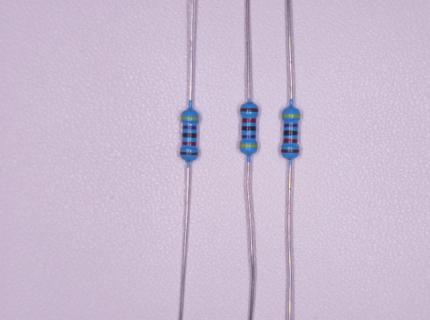Black band: (183, 133, 197, 138), (242, 126, 256, 131), (284, 131, 298, 135)
Brown band: (281, 149, 299, 153), (240, 108, 258, 112), (180, 152, 198, 155)
Red band: (182, 142, 196, 146), (242, 118, 256, 122), (284, 139, 297, 143)
Violet band: (241, 135, 256, 138), (284, 124, 298, 127), (183, 126, 197, 129)
Yellow band: (239, 144, 258, 148), (181, 116, 199, 120), (282, 114, 301, 117)
